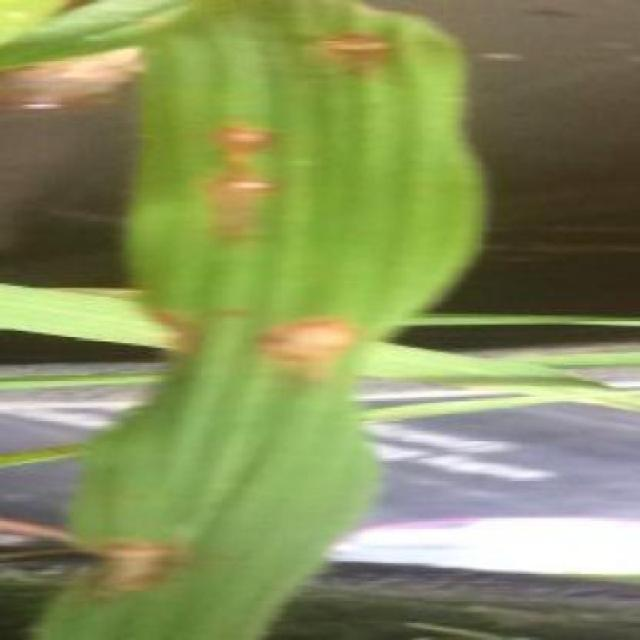Bacterial_Leaf_Blight: (243, 292, 368, 388), (66, 519, 203, 606), (295, 13, 407, 98), (196, 161, 289, 241), (202, 104, 295, 162)
